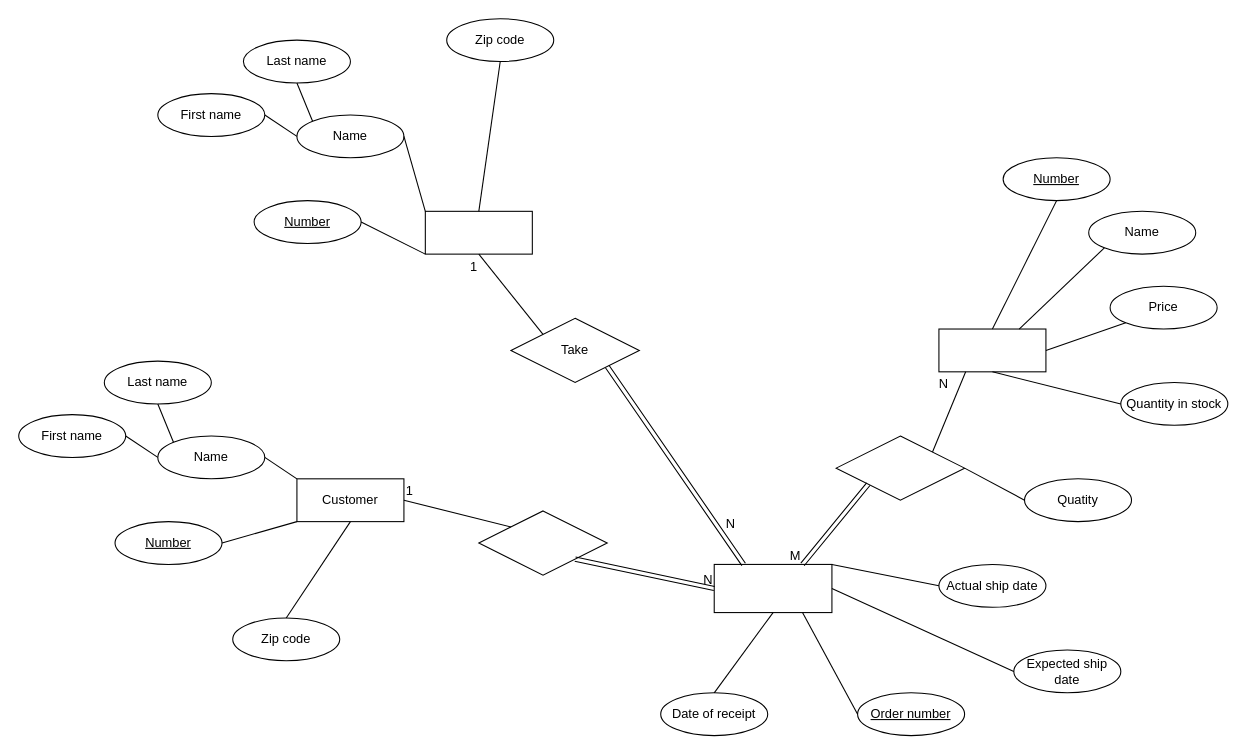
Some shapes in this 1247 by 754 pixel diagram are drawn without their labels. Here are the shapes that lost their labels. From the top down, the centre of each, then its label:
At (x=478, y=232): "Employee".
At (x=992, y=350): "Part".
At (x=900, y=467): "Include".
At (x=542, y=542): "Place".
At (x=772, y=588): "Order".
